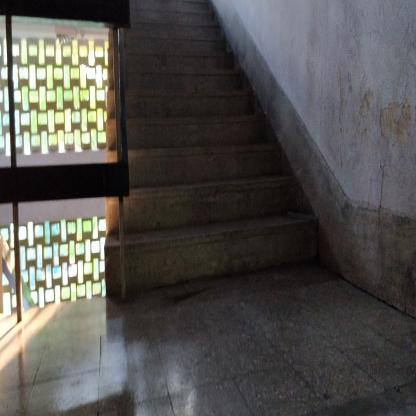stairs: (105, 144, 281, 309)
